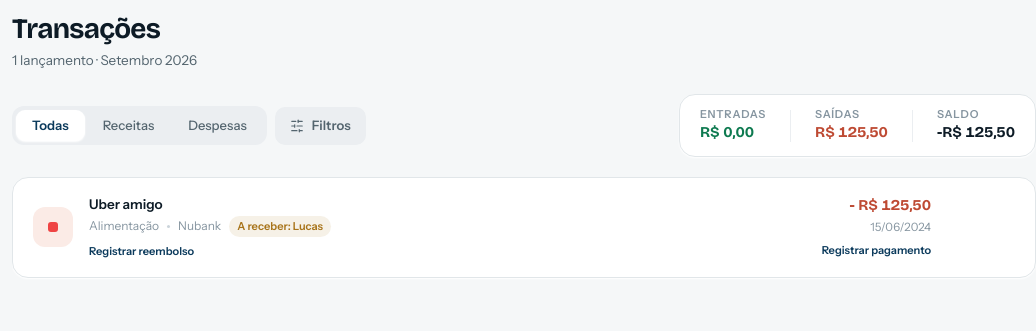
Test case: Transactions › rejects reimbursement above the expense total
Expected: the text "A receber: Lucas" is shown, [229,216,331,236]
Click the button "Registrar reembolso".
click(142, 251)  # box [89,242,194,259]
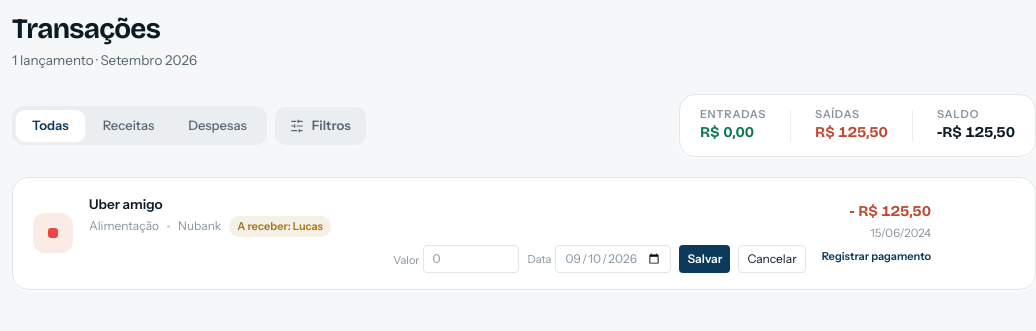
Replace the text in the field named "Valor reembolsado" with "99999999" at (472, 258), box [424,244,520,272]
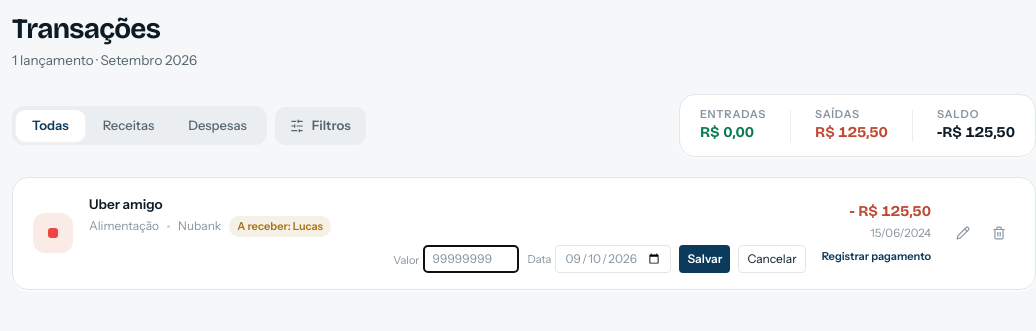
Click the button "Salvar".
click(705, 258)  # box [679,244,730,272]
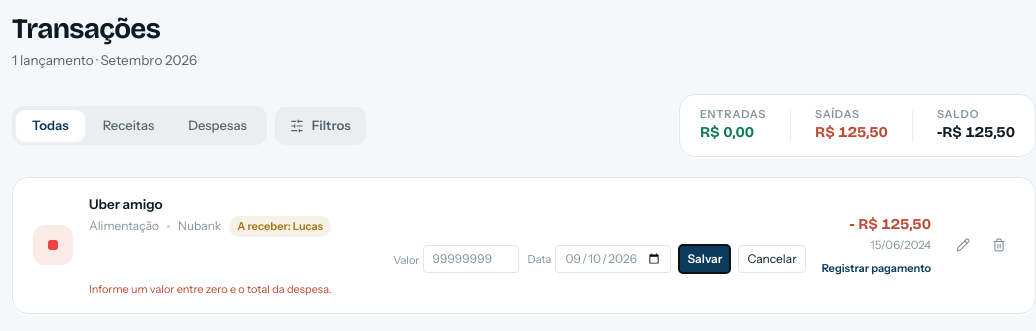
Expected: the text "Informe um valor entre zero e o total da despesa." is shown, [89,282,332,296]
Replace the text in the field named "Valor reembolsado" with "10" at (472, 258), box [424,244,520,272]
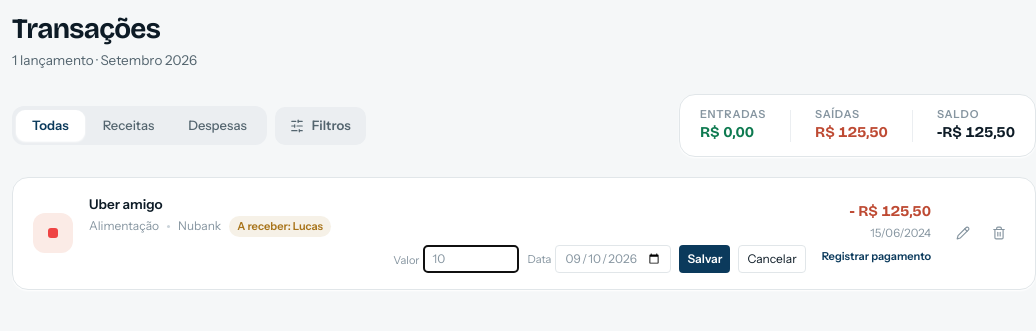
Type "2999-01-01" into the date field named "Data do reembolso".
click(613, 258); type("2999-01-01")  # box [555,244,671,272]
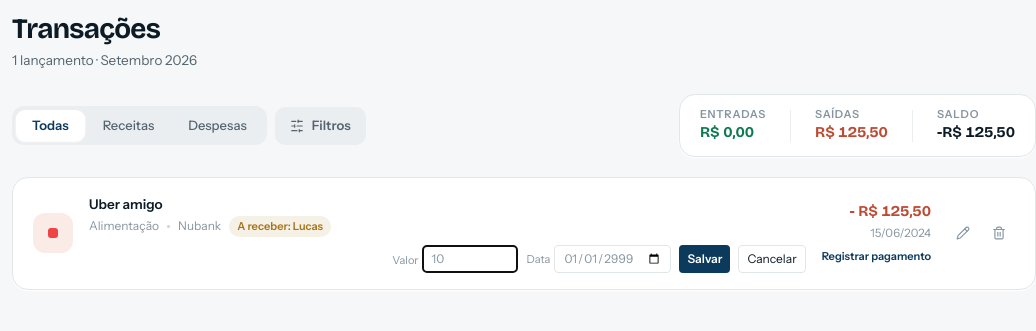
Click the button "Salvar".
click(705, 258)  # box [679,244,730,272]
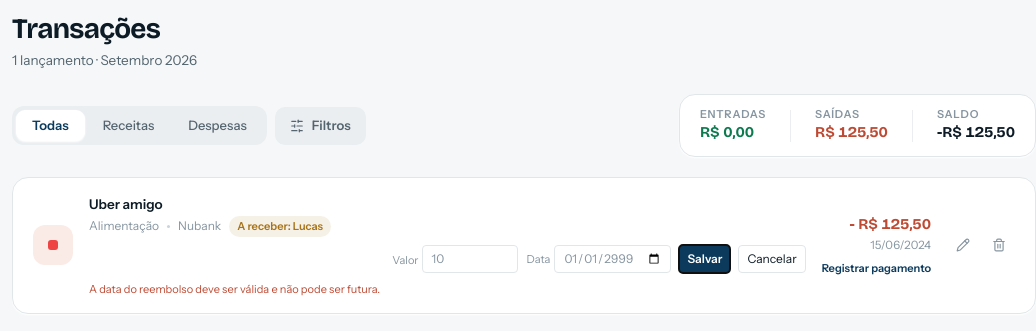
Expected: the text "A data do reembolso deve ser válida e não pode ser futura." is shown, [89,282,380,296]
